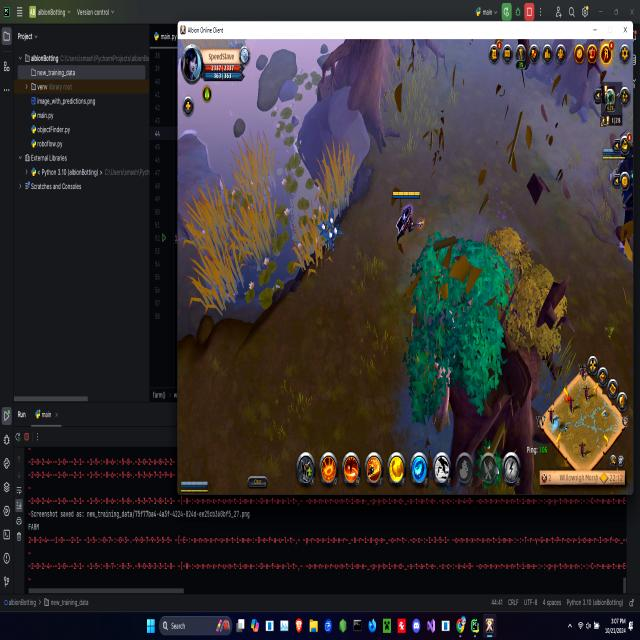hide: (316, 212, 344, 256)
red: (601, 144, 636, 243), (390, 187, 426, 254), (177, 478, 211, 494)
wisp caged: (408, 231, 513, 443)
